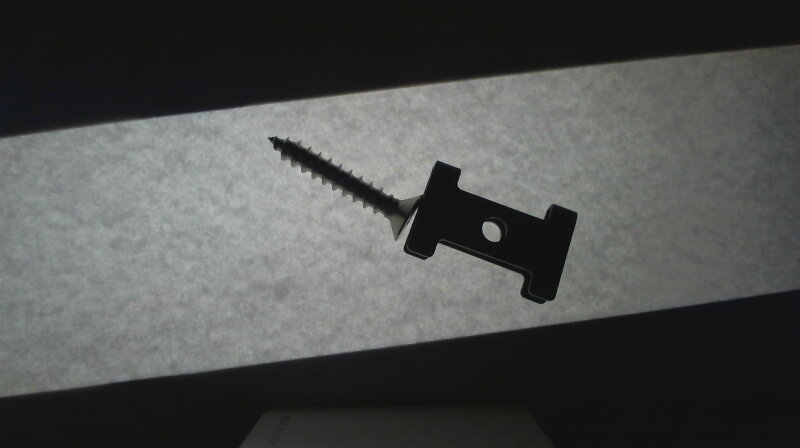O002: (408, 160, 578, 305)
S001: (265, 131, 425, 241)
